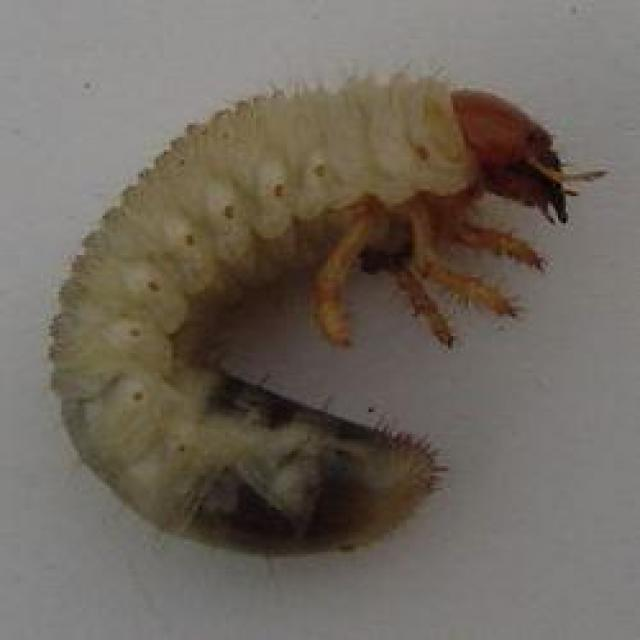Grub-Adult-: (41, 65, 580, 577)
